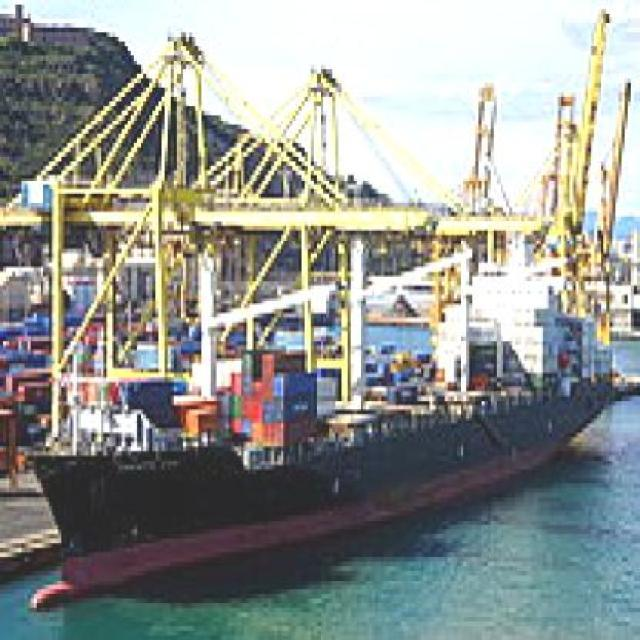Container Ship: (16, 202, 634, 614)
